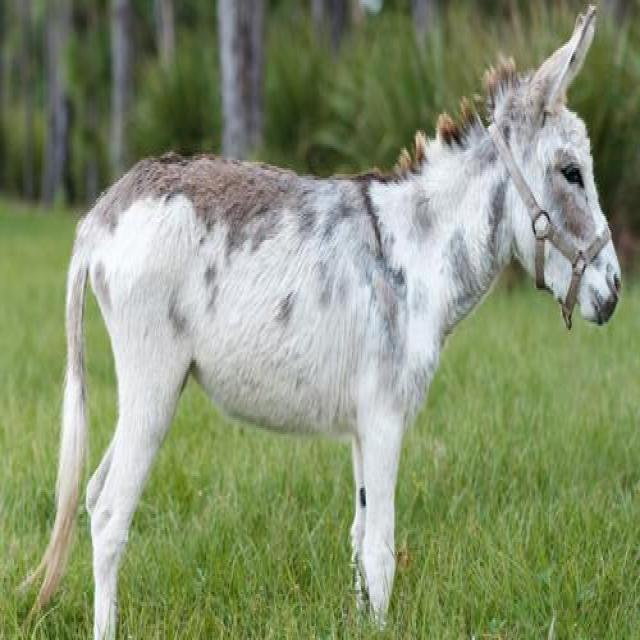Donkey: (34, 6, 622, 640)
